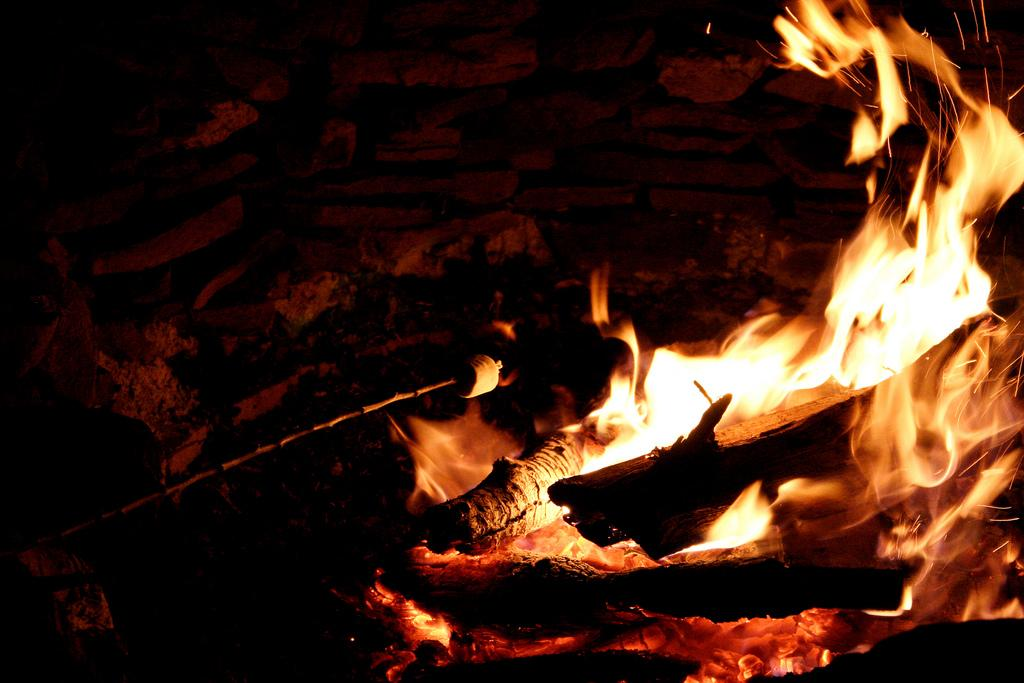fire: (833, 237, 962, 370), (872, 380, 1002, 492), (632, 348, 745, 432), (963, 110, 1017, 213)
